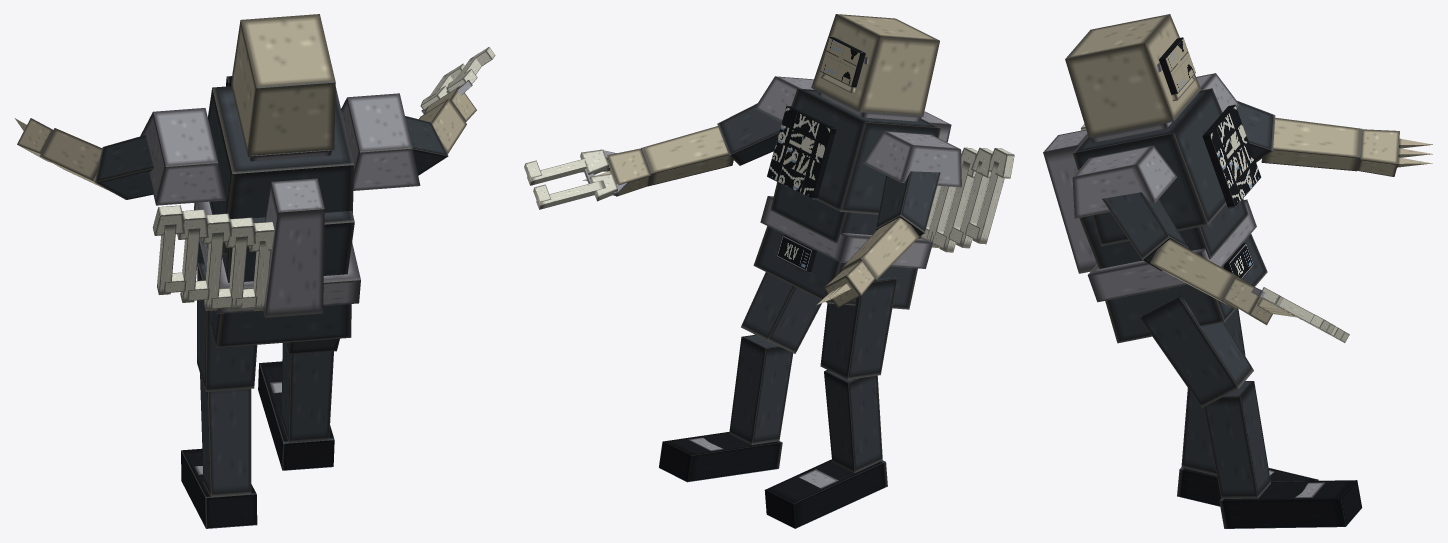
The model's file is absentiel_death.obj.
The picture shows the model from 3 angles, left to right: view 1: azimuth 30°, elevation 25°; view 2: azimuth 150°, elevation 25°; view 3: azimuth 270°, elevation 25°; orthographic projection. The views are drawn at different scales.
Parts seen in each view (by area): view 1: absentiel_death; view 2: absentiel_death; view 3: absentiel_death.
Boxes of the visible parts, left/top/right/bottom form: absentiel_death: left=15, top=14, right=495, bottom=528; absentiel_death: left=524, top=14, right=1014, bottom=528; absentiel_death: left=1043, top=14, right=1432, bottom=528.
Bounding box in the file's own units: 0.9278 × 1.02 × 0.7477.
Materials: 1 (1 with a texture image).
